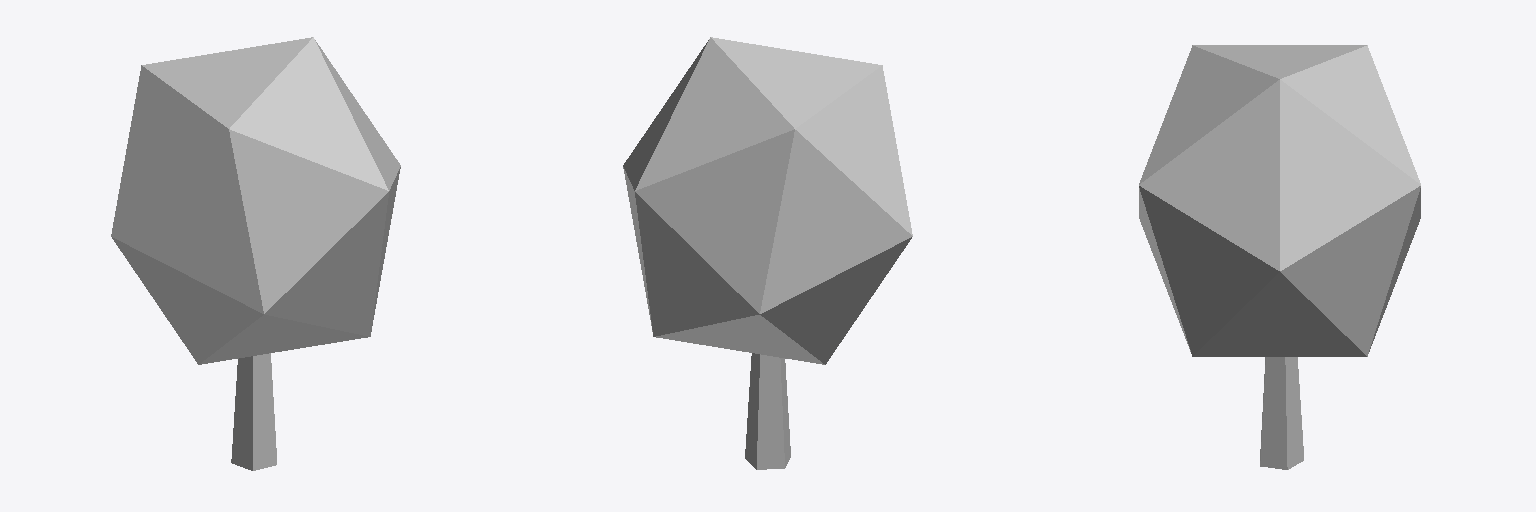
The model's file is Tree10.obj.
3 renders of one model, left to right at view 1: azimuth 30°, elevation 25°; view 2: azimuth 150°, elevation 25°; view 3: azimuth 270°, elevation 25°, orthographic.
Parts seen in each view (by area): view 1: Tree001; view 2: Tree001; view 3: Tree001.
Part boxes in pixels (bbox=[...]): Tree001: bbox=[111, 37, 400, 470]; Tree001: bbox=[623, 37, 912, 469]; Tree001: bbox=[1139, 45, 1420, 469].
Size of the model in its own units: 13.69 by 18.48 by 11.57.